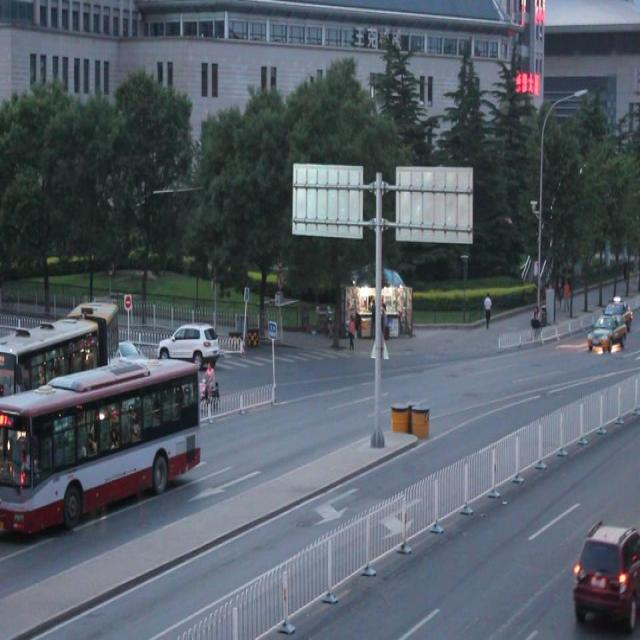car: (571, 520, 640, 621), (159, 317, 222, 362), (112, 334, 155, 384)
van: (1, 359, 202, 535), (0, 303, 119, 406)
